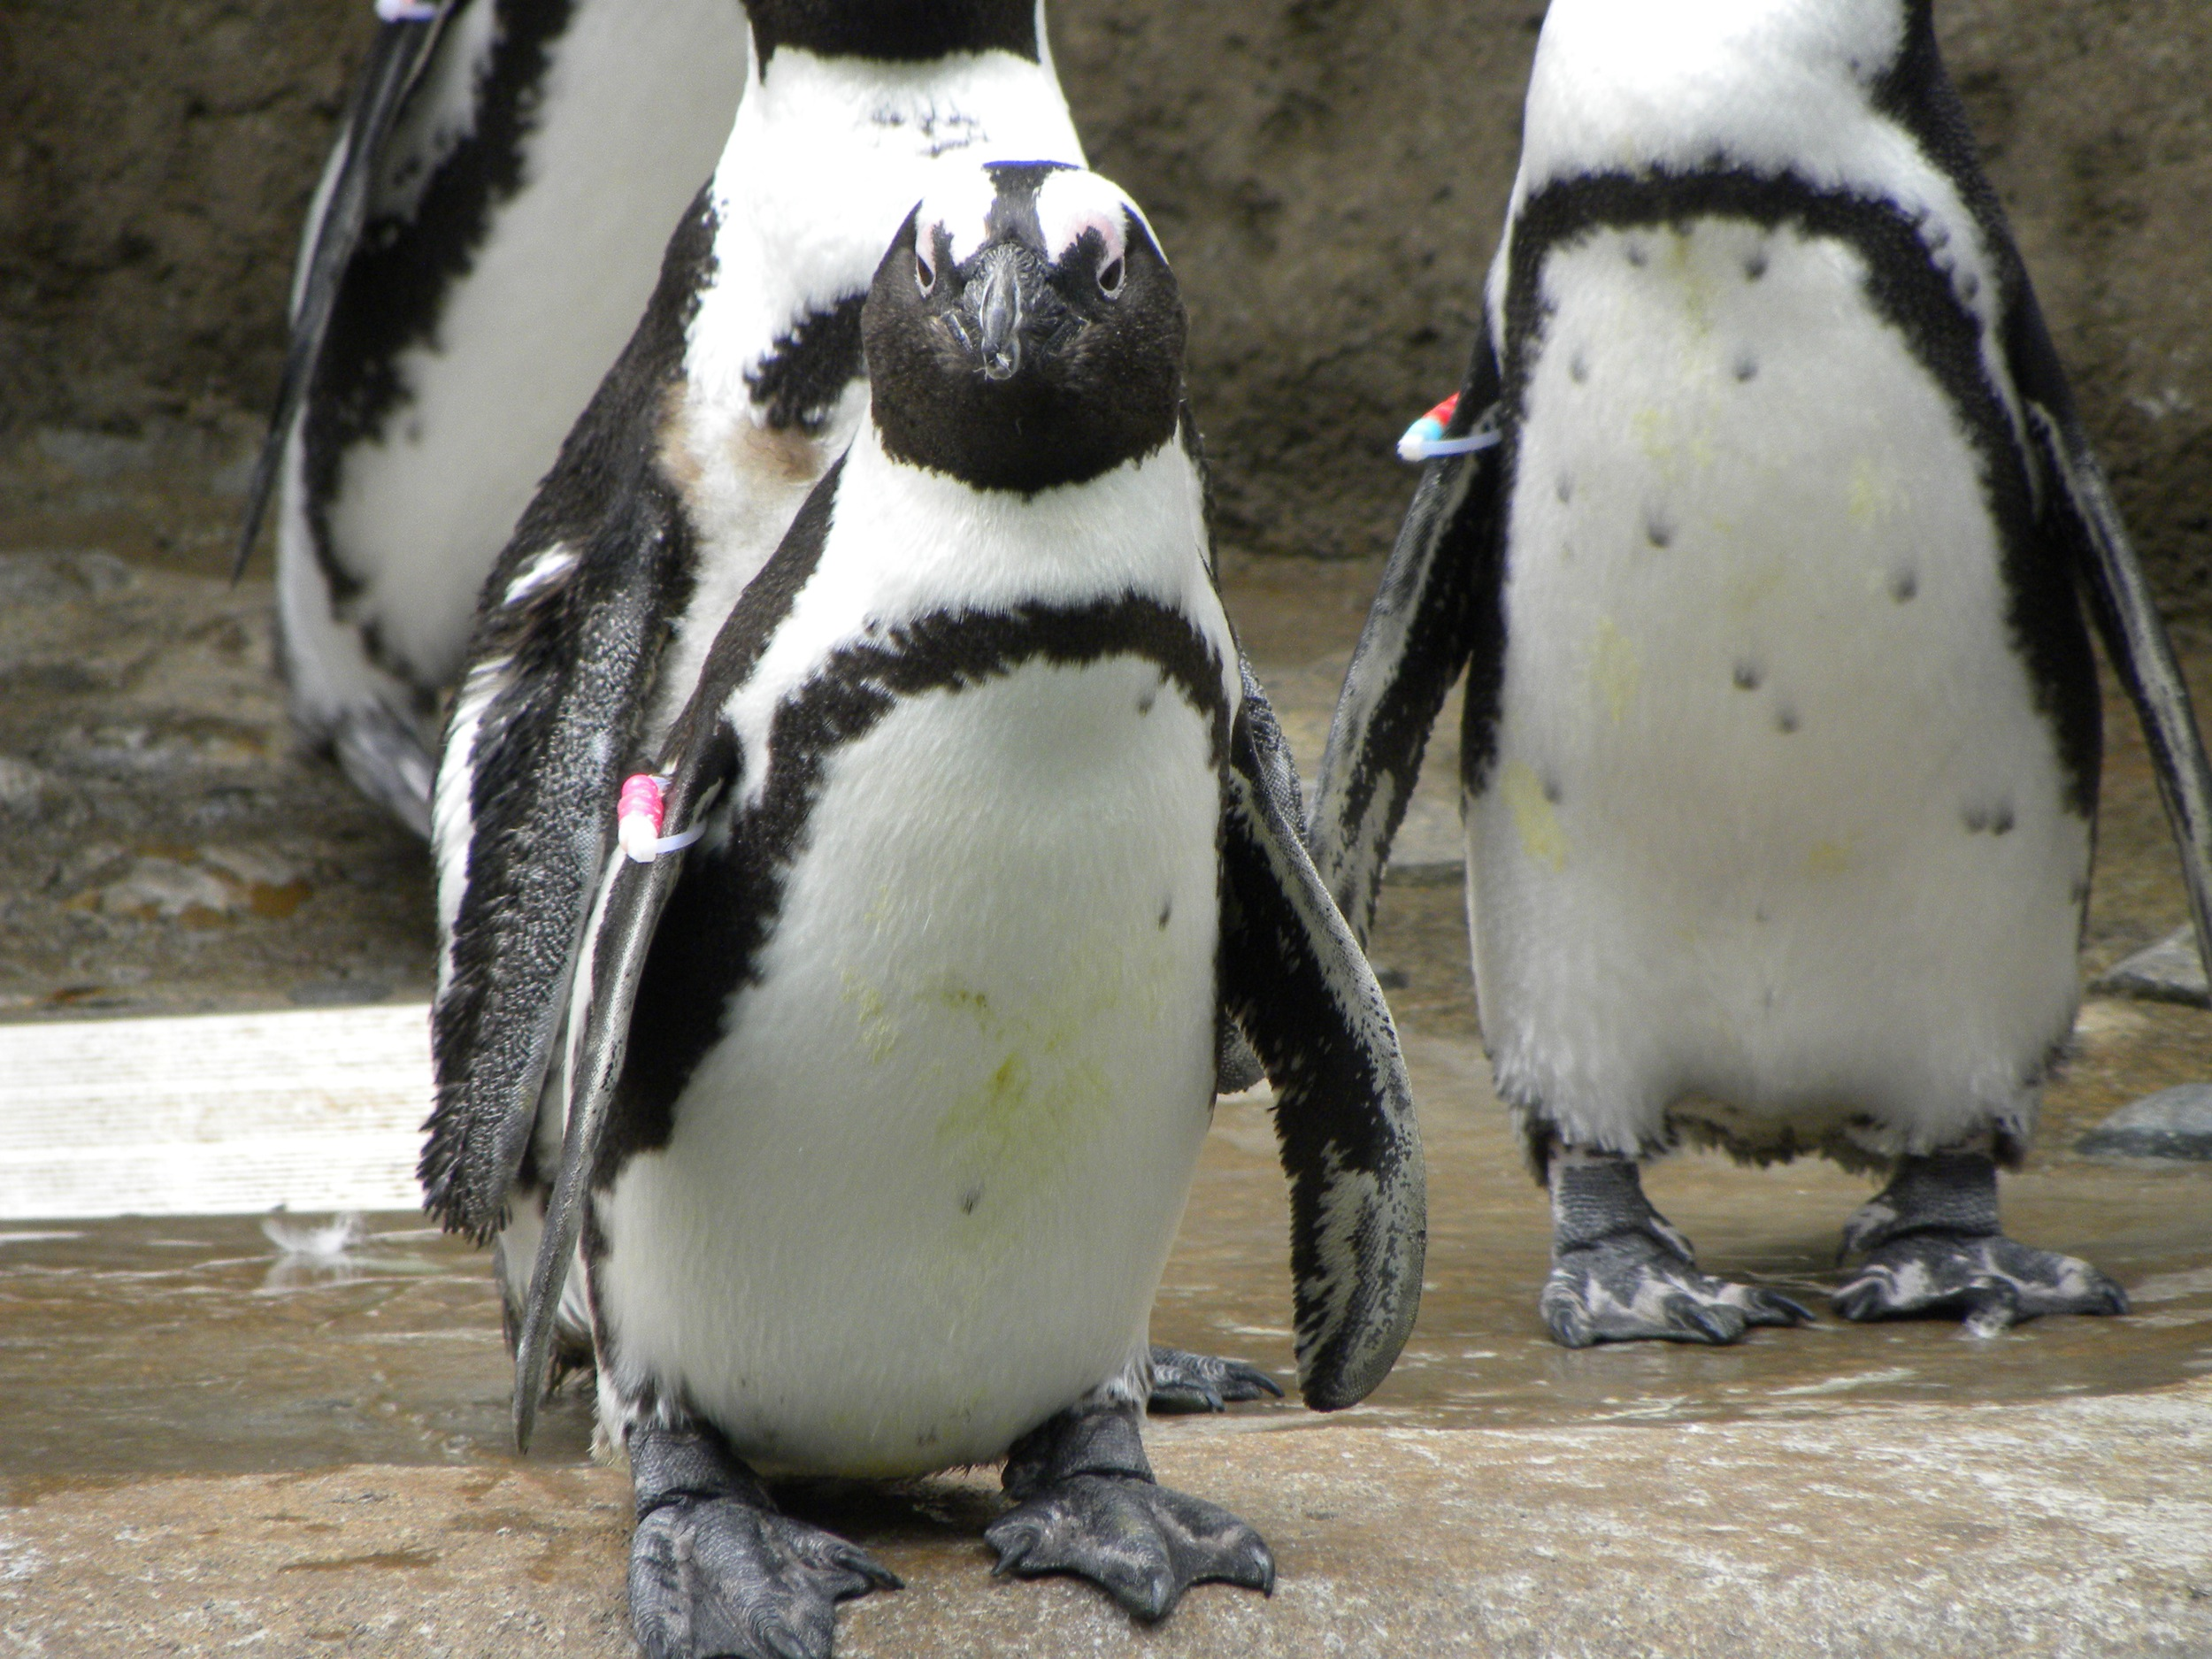penguin: (550, 159, 1428, 1645)
